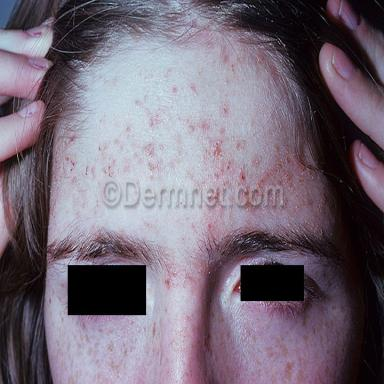Darier_s-Disease: (51, 79, 336, 215)
